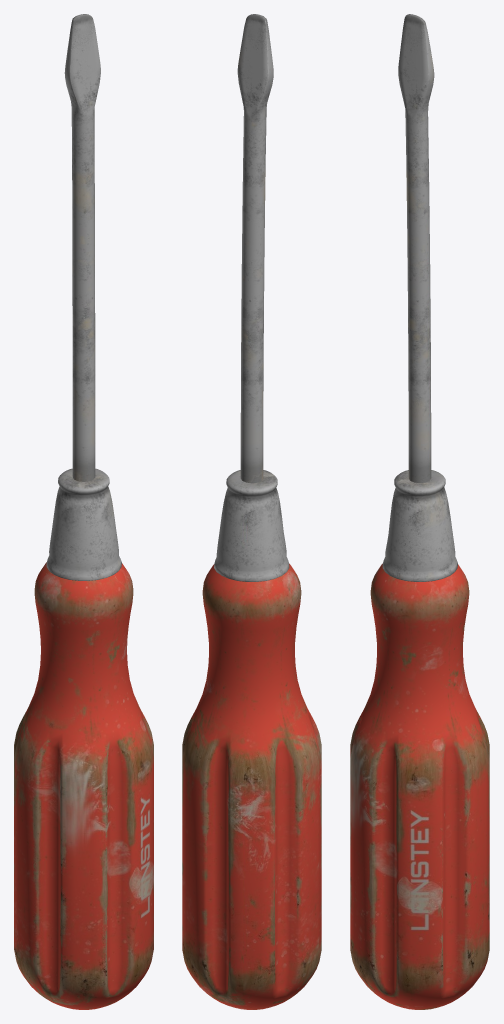
Rendered from screwdriver.glb.
The picture shows the model from 3 angles, left to right: view 1: azimuth 30°, elevation 25°; view 2: azimuth 150°, elevation 25°; view 3: azimuth 330°, elevation 25°; orthographic projection.
Bounding box in the file's own units: 0.0909 × 0.7 × 0.0894.
1 material, 1 textured.
